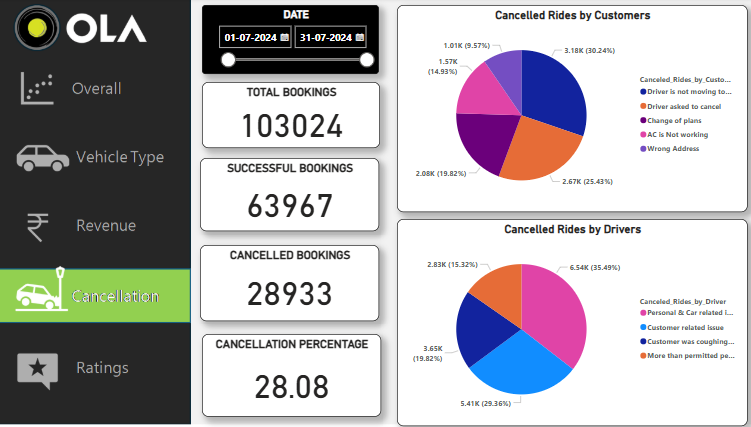

This screenshot's page, from the dashboard's own definition file:
{"tool":"powerbi","page":{"name":"Cancellation","canvas":[1280,720],"ordinal":3},"visuals":[{"type":"actionButton","box":[0,221.8,325.4,93.6],"z":0},{"type":"actionButton","box":[0,339.8,325.4,89.3],"z":1000},{"type":"actionButton","box":[0,447.8,325.4,93.6],"z":2000},{"type":"actionButton","box":[0,576,325.4,93.6],"z":3000},{"type":"actionButton","box":[0,108,325.4,90.7],"z":4000},{"type":"pieChart","title":"Cancelled Rides by Customers","fields":{"Category":["July.Canceled_Rides_by_Customer"],"Y":["CountNonNull(July.Canceled_Rides_by_Customer)"]},"box":[669.6,11.5,589,348.5],"z":5000},{"type":"pieChart","title":"Cancelled Rides by Drivers","fields":{"Category":["July.Canceled_Rides_by_Driver"],"Y":["CountNonNull(July.Canceled_Rides_by_Driver)"]},"box":[669.6,371.5,589,348.5],"z":6000},{"type":"slicer","title":"DATE","fields":{"Values":["July.Date"]},"box":[342.7,11.8,297.3,115.9],"z":7000},{"type":"card","title":"TOTAL BOOKINGS","fields":{"Values":["Count(July.Booking_ID)"]},"box":[342.7,141.1,299,110.9],"z":8000},{"type":"card","title":"SUCCESSFUL BOOKINGS","fields":{"Values":["Count(July.Booking_ID)"]},"box":[339.3,268.8,300.7,122.6],"z":9000},{"type":"card","title":"CANCELLED BOOKINGS","fields":{"Values":["Count(July.Booking_ID)"]},"box":[339.3,414.9,300.7,127.7],"z":10000},{"type":"card","title":"CANCELLATION PERCENTAGE","fields":{"Values":["July.Cancelled_Percentage"]},"box":[342.7,564.4,300.7,139.4],"z":11000}]}

Visuals, with their boxes on the page's 1280x720 design canvas (x1, y1, x2, y2). These are canvas units, not pixel positions in the 751x427 screenshot, which may show the page scaled, cropped or inside an application window:
actionButton: [x1=0, y1=222, x2=325, y2=315]
actionButton: [x1=0, y1=340, x2=325, y2=429]
actionButton: [x1=0, y1=448, x2=325, y2=541]
actionButton: [x1=0, y1=576, x2=325, y2=670]
actionButton: [x1=0, y1=108, x2=325, y2=199]
"Cancelled Rides by Customers" pieChart: [x1=670, y1=12, x2=1259, y2=360]
"Cancelled Rides by Drivers" pieChart: [x1=670, y1=372, x2=1259, y2=720]
"DATE" slicer: [x1=343, y1=12, x2=640, y2=128]
"TOTAL BOOKINGS" card: [x1=343, y1=141, x2=642, y2=252]
"SUCCESSFUL BOOKINGS" card: [x1=339, y1=269, x2=640, y2=391]
"CANCELLED BOOKINGS" card: [x1=339, y1=415, x2=640, y2=543]
"CANCELLATION PERCENTAGE" card: [x1=343, y1=564, x2=643, y2=704]
